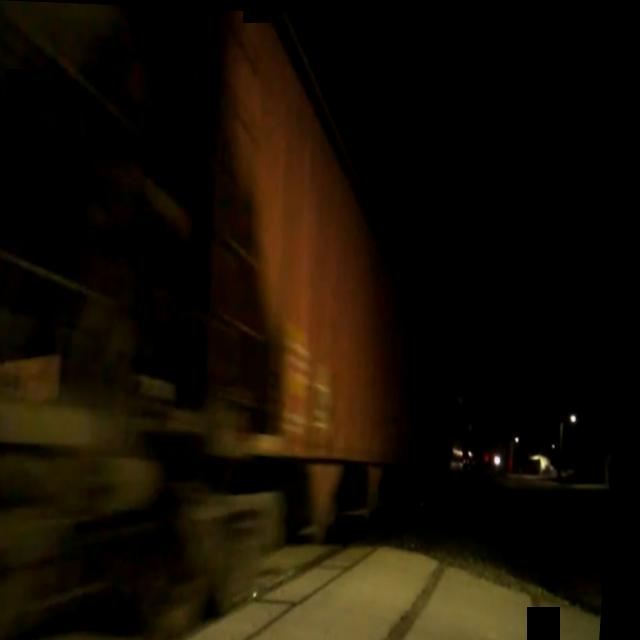hopper: (137, 6, 476, 640)
